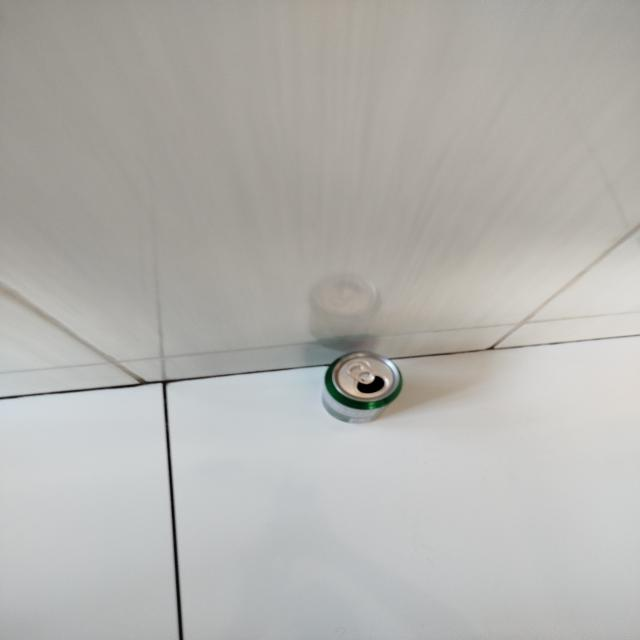Guarana: (319, 350, 401, 422)
